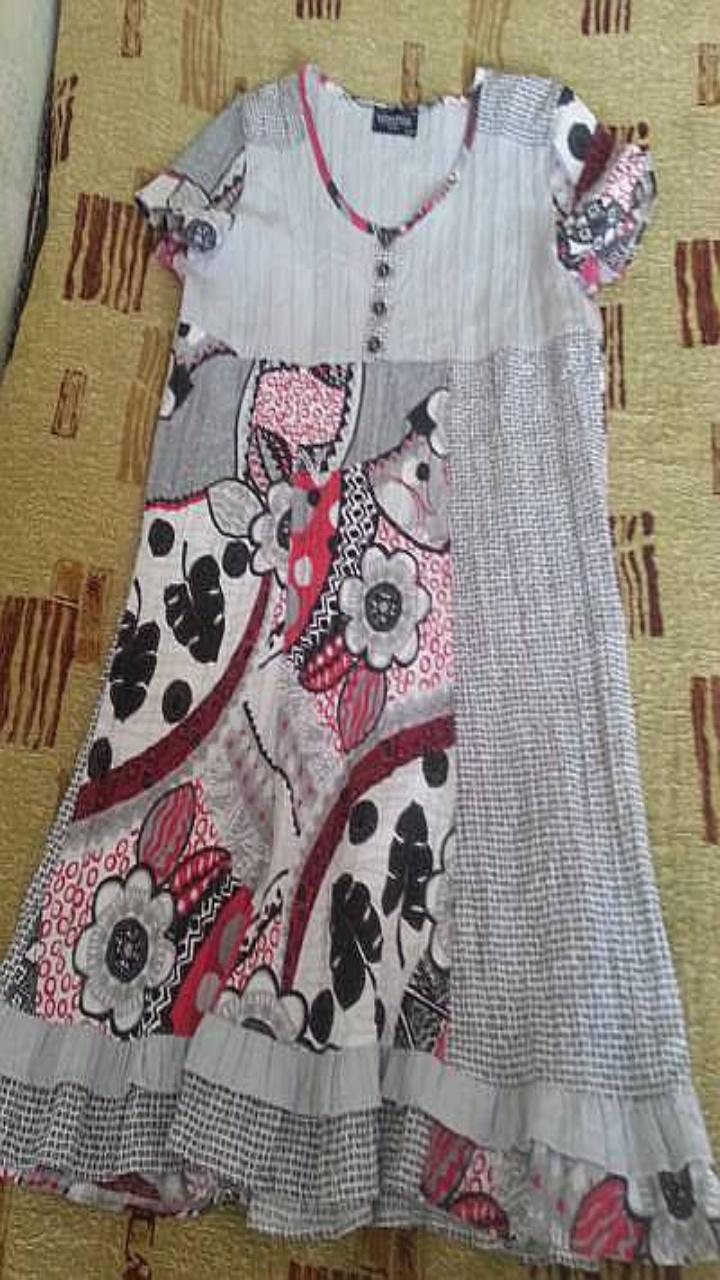Dresses: (0, 65, 719, 1267)
